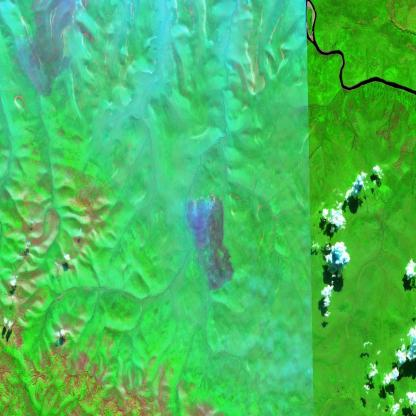fire: (184, 184, 229, 220)
